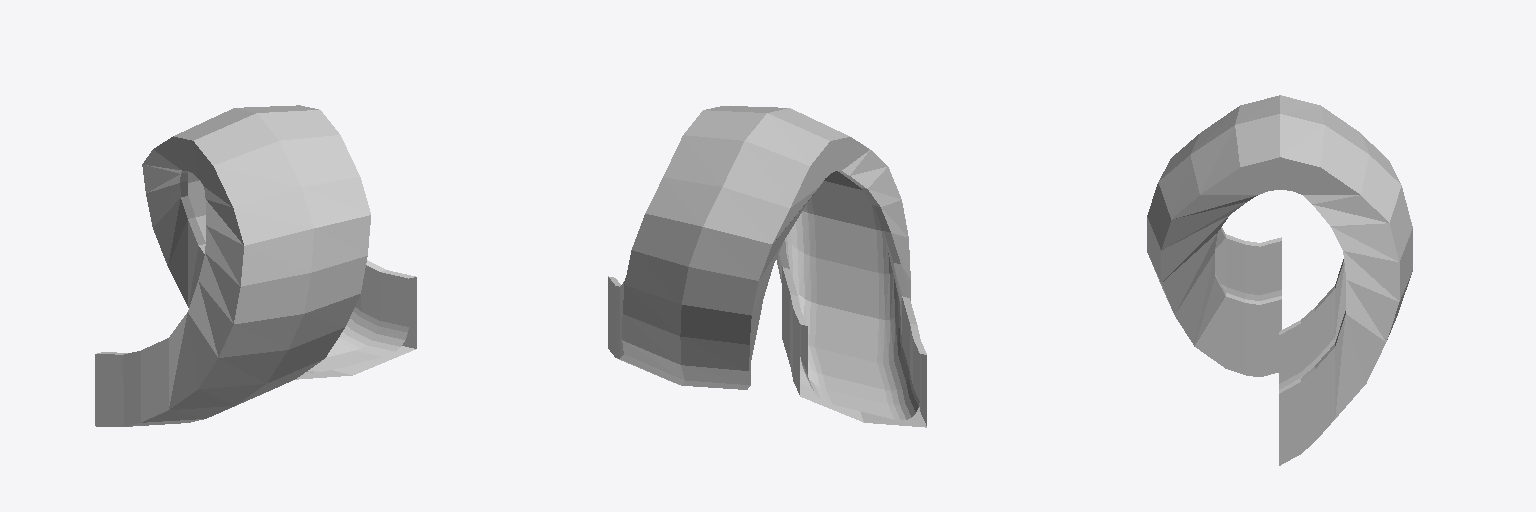
File: TrackPiece_Loop.obj
The picture shows the model from 3 angles: view 1: azimuth 30°, elevation 25°; view 2: azimuth 150°, elevation 25°; view 3: azimuth 270°, elevation 25°; orthographic projection.
Visible parts, largest first — view 1: TrackPiece_Loop_Cube.005; view 2: TrackPiece_Loop_Cube.005; view 3: TrackPiece_Loop_Cube.005.
Boxes of the visible parts, x1,y1,x2,y2 form: TrackPiece_Loop_Cube.005: [95, 105, 416, 426]; TrackPiece_Loop_Cube.005: [608, 106, 926, 427]; TrackPiece_Loop_Cube.005: [1147, 95, 1412, 465].
Size of the model in its own units: 18.53 by 15.76 by 13.31.